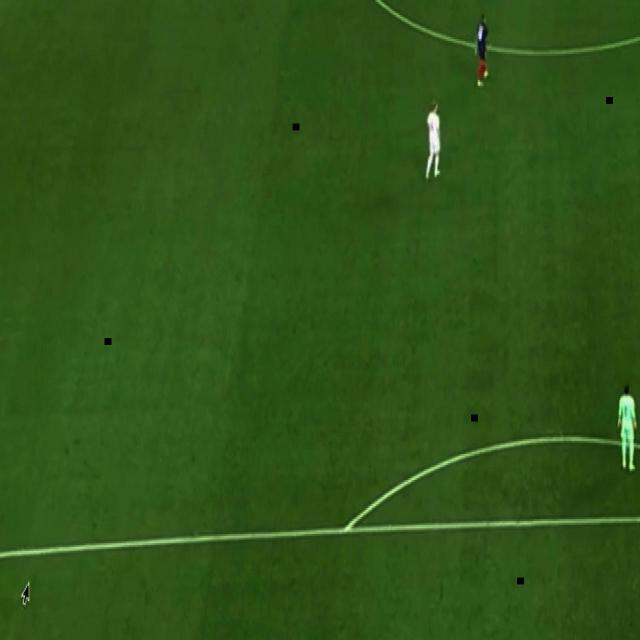player-white: (616, 380, 639, 474), (422, 95, 442, 183), (473, 8, 493, 92)
